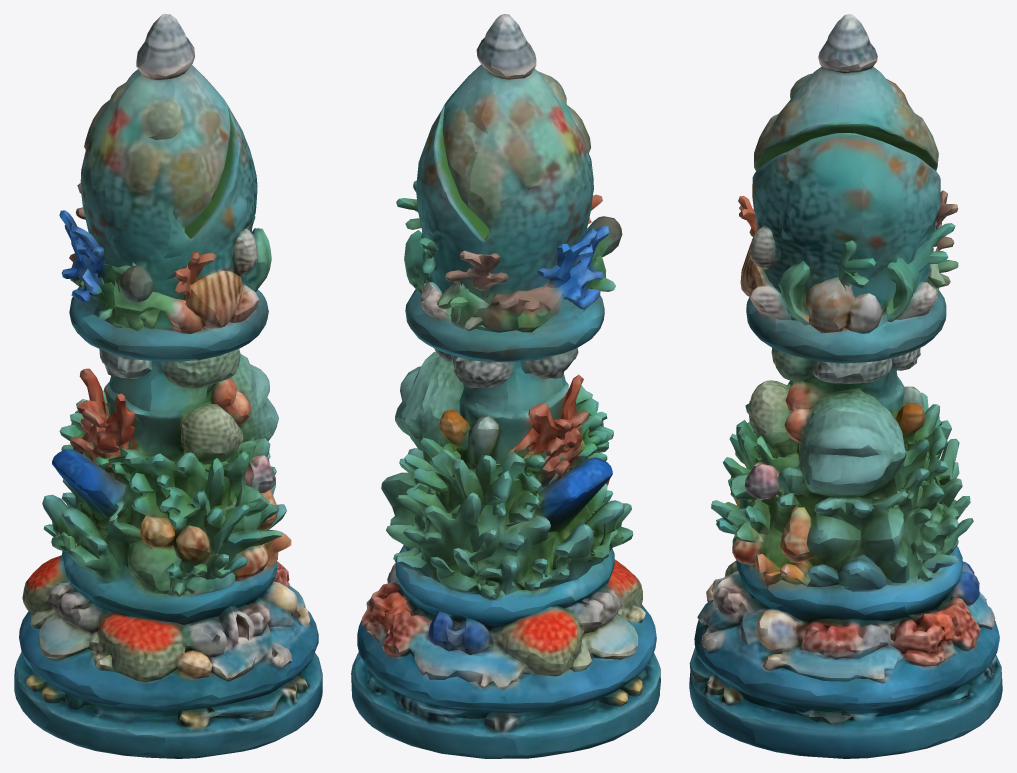
3 views of the same model, side by side, from view 1: azimuth 30°, elevation 25°; view 2: azimuth 150°, elevation 25°; view 3: azimuth 270°, elevation 25° (orthographic).
Visible parts, largest first — view 1: world; view 2: world; view 3: world.
Part boxes in pixels (x1,y1,x2,y2): world: (14, 14, 322, 758); world: (351, 14, 660, 758); world: (689, 14, 1002, 758).
Bounding box in the file's own units: 0.1143 × 0.2799 × 0.1163.
Materials: 1 (1 with a texture image).
